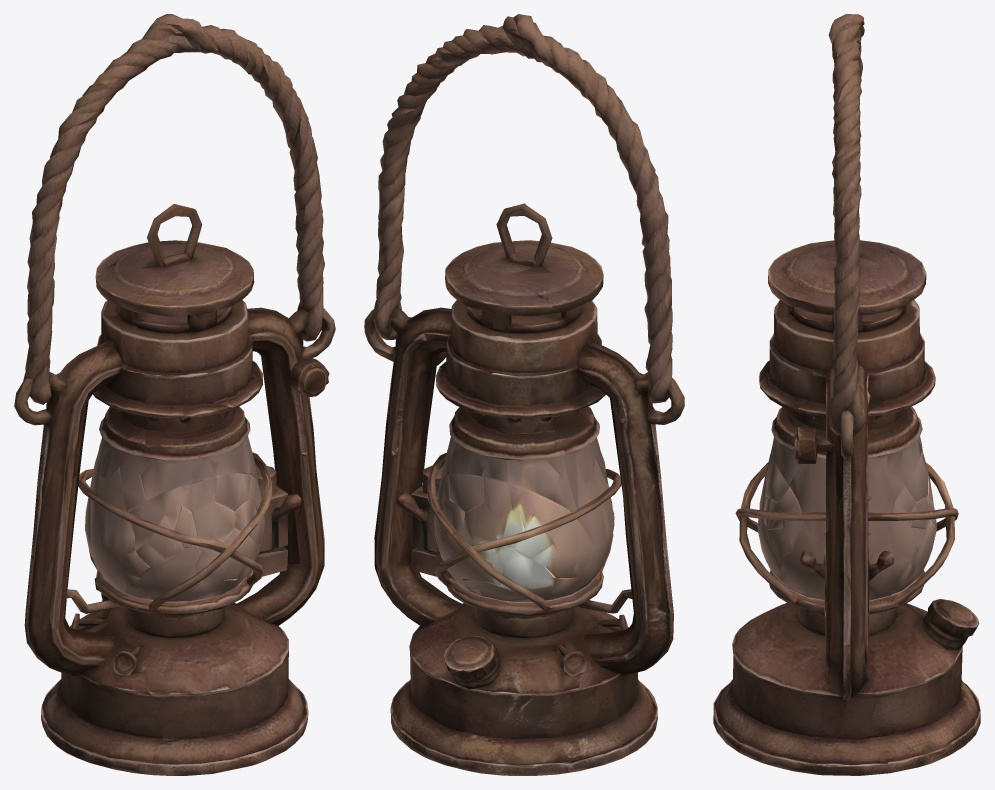
The model's file is mine_lantern_b_idle.glb.
The picture shows the model from 3 angles, left to right: view 1: azimuth 30°, elevation 25°; view 2: azimuth 150°, elevation 25°; view 3: azimuth 270°, elevation 25°; orthographic projection.
Parts seen in each view (by area): view 1: tripo_node_fa8650cc-1a13-4902-a714-a03c264bd91e; view 2: tripo_node_fa8650cc-1a13-4902-a714-a03c264bd91e; view 3: tripo_node_fa8650cc-1a13-4902-a714-a03c264bd91e.
Part boxes in pixels (bbox=[...]): tripo_node_fa8650cc-1a13-4902-a714-a03c264bd91e: bbox=[14, 14, 335, 775]; tripo_node_fa8650cc-1a13-4902-a714-a03c264bd91e: bbox=[364, 14, 684, 775]; tripo_node_fa8650cc-1a13-4902-a714-a03c264bd91e: bbox=[713, 14, 980, 775].
Bounding box in the file's own units: 0.1659 × 0.3501 × 0.1203.
1 material, 1 textured.
